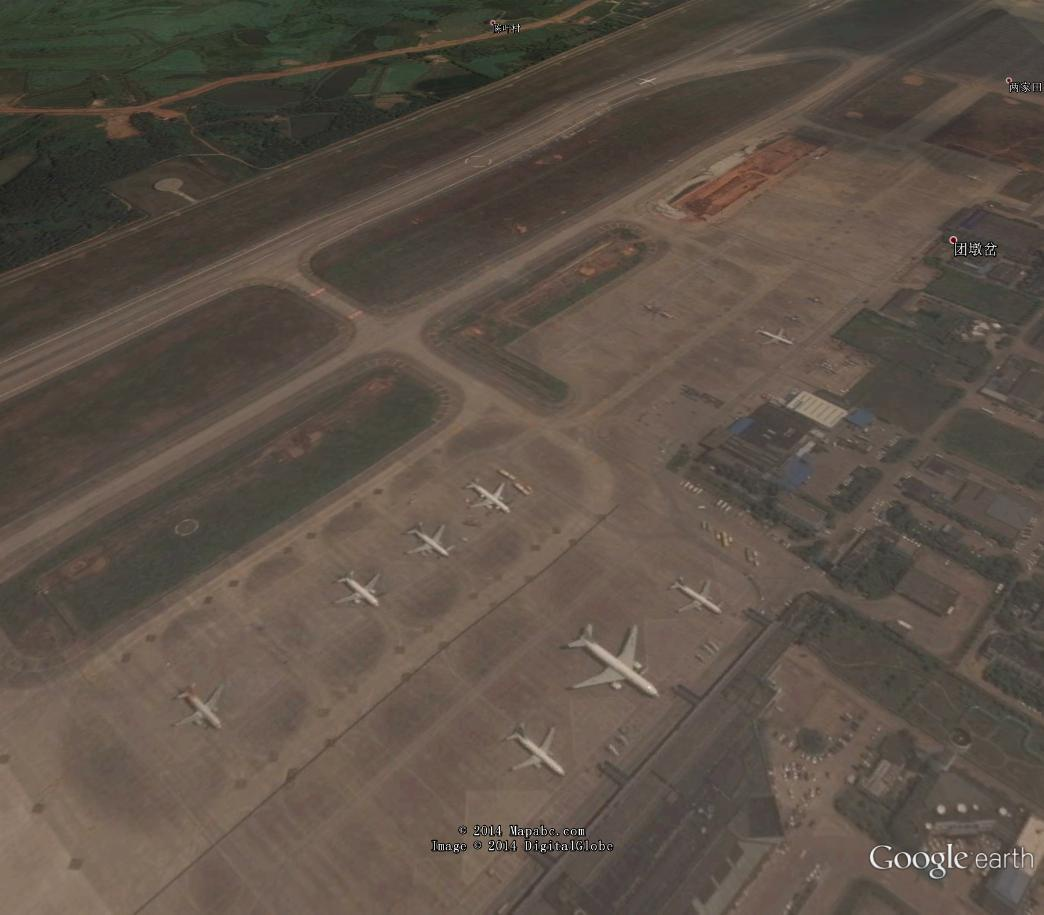aircraft: (556, 616, 667, 706), (498, 717, 574, 786), (162, 676, 238, 742), (394, 514, 457, 571), (454, 469, 516, 525), (664, 571, 727, 622), (325, 567, 388, 615), (748, 316, 802, 354)
